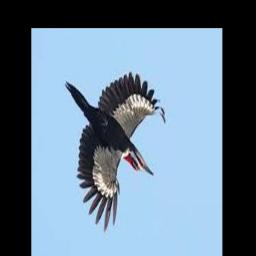Woodpecker: (65, 73, 166, 233)
